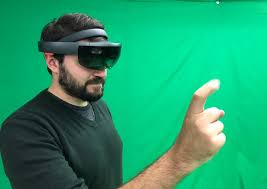hololens: (36, 35, 123, 72)
